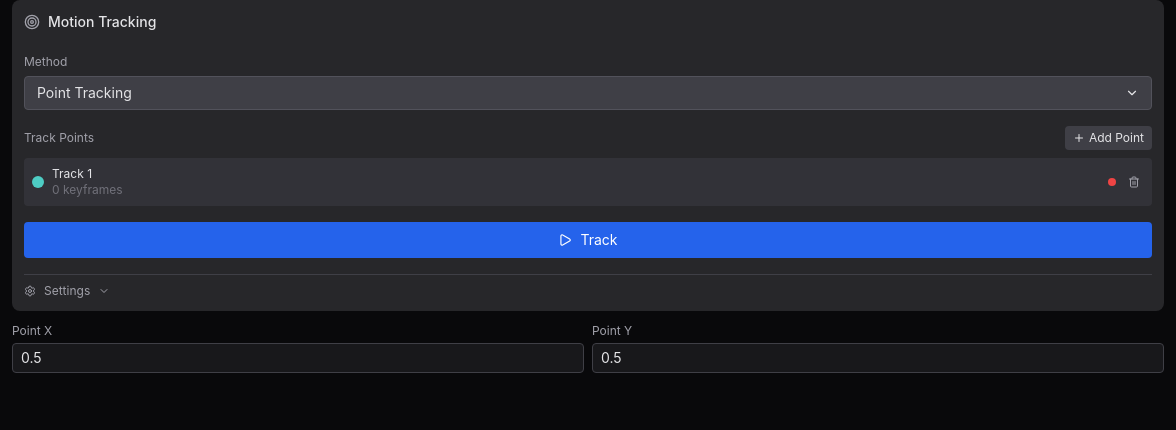
PointTrackingPanel › tracking result display › should show average confidence percentage after tracking
Click the button "Track" at (588, 240), box x1=24 y1=222 x2=1152 y2=258
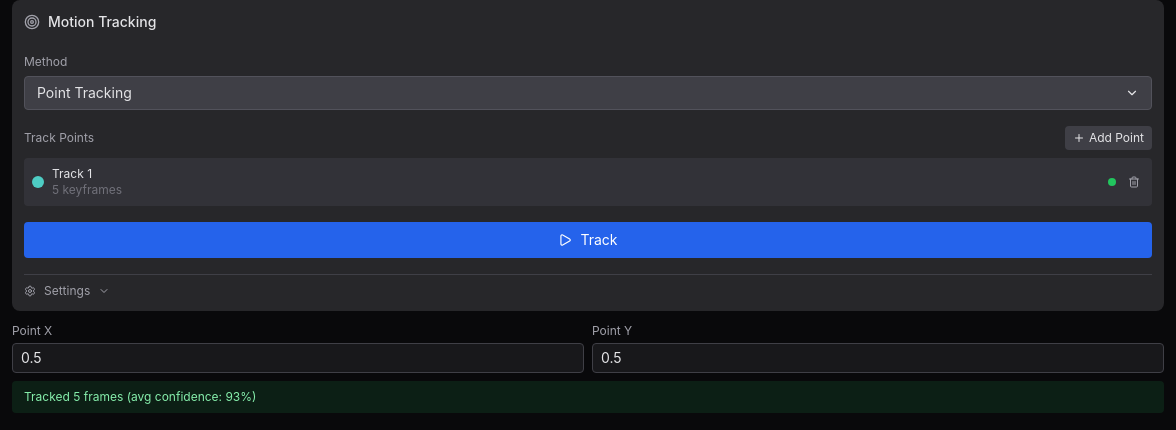
Expected: the text with test id "tracking-result" reads "Tracked 5 frames (avg confidence: 93%)", x1=12 y1=381 x2=1164 y2=413
